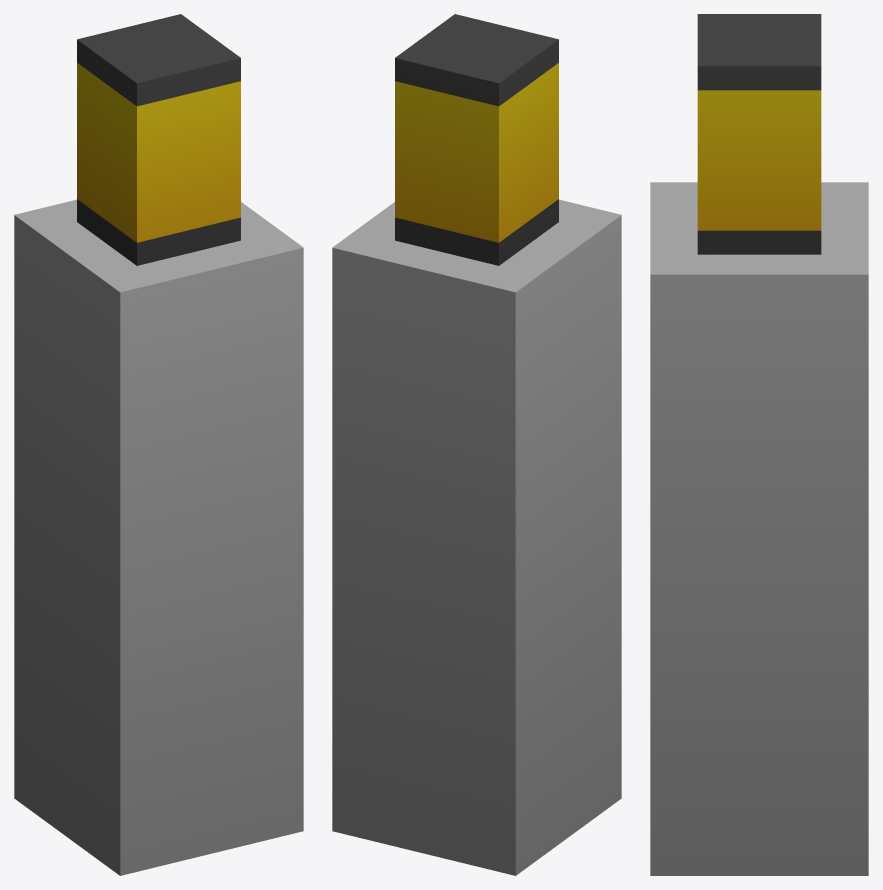
The model's file is fence stone pillar.fbx.
3 views of the same model, side by side, from view 1: azimuth 30°, elevation 25°; view 2: azimuth 150°, elevation 25°; view 3: azimuth 270°, elevation 25° (orthographic). The views are drawn at different scales.
Visible parts, largest first — view 1: fence_pillar_stone; view 2: fence_pillar_stone; view 3: fence_pillar_stone.
Boxes of the visible parts, x1=… form: fence_pillar_stone: x1=14, y1=14, x2=303, y2=875; fence_pillar_stone: x1=332, y1=14, x2=621, y2=875; fence_pillar_stone: x1=650, y1=14, x2=868, y2=875.
Bounding box in the file's own units: 63.96 × 255 × 63.96.
Materials: 1 (1 with a texture image).
